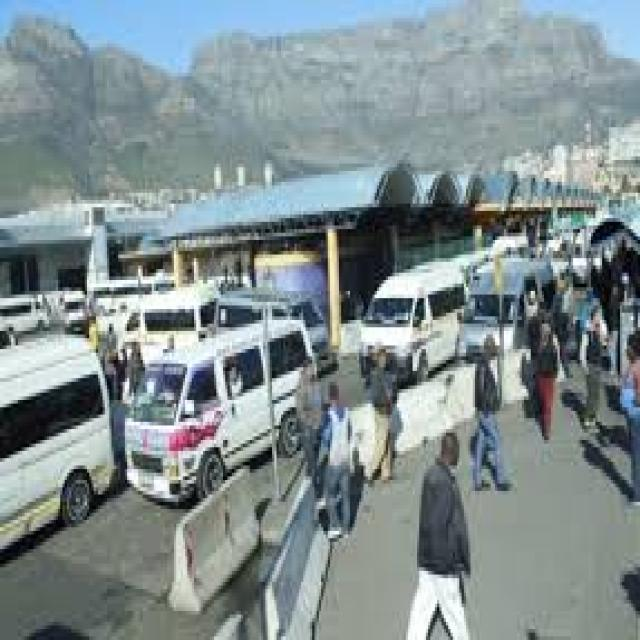MiniBus taxi: (125, 302, 319, 520), (2, 342, 114, 538), (355, 251, 477, 393)
Pedestrians: (402, 429, 471, 636), (471, 328, 508, 488)
